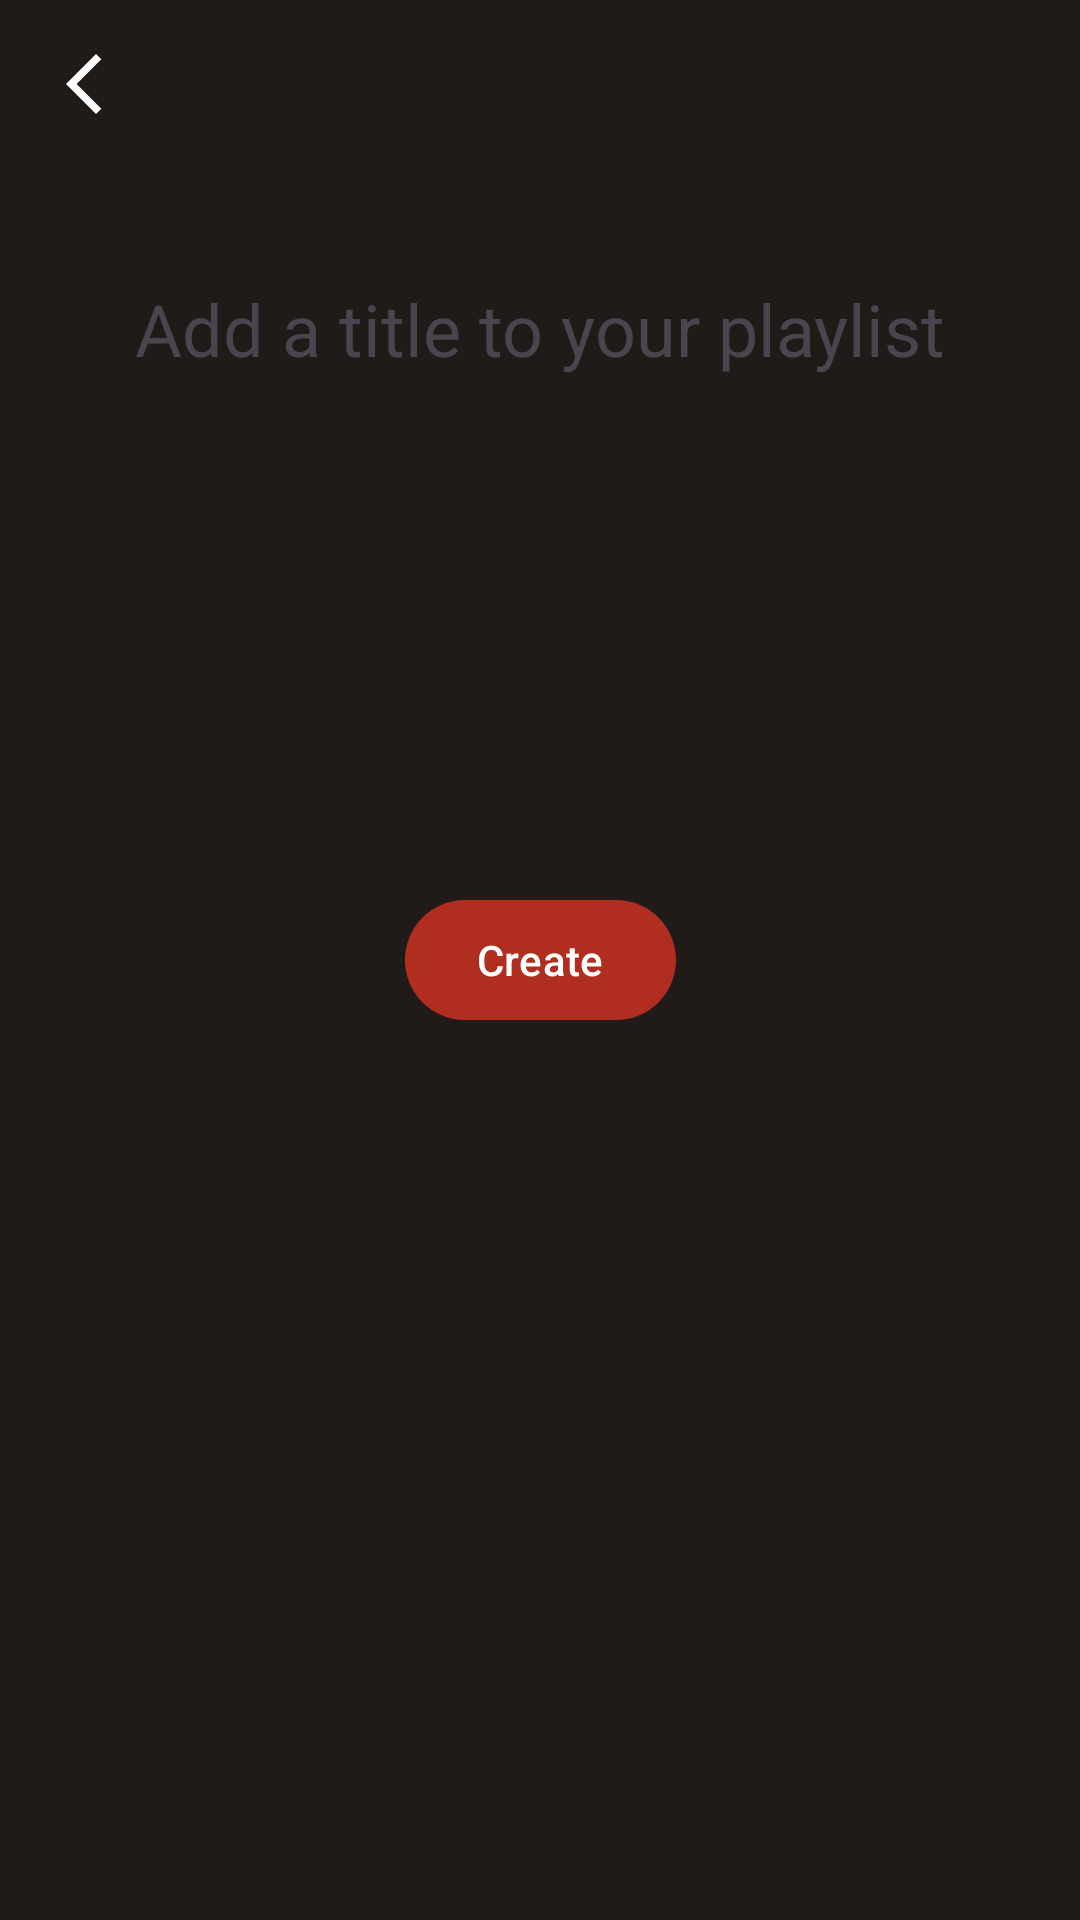

Icon click points for this 1080px×1920px phone screenshot, format [x,y]:
Go back: [83,84]
